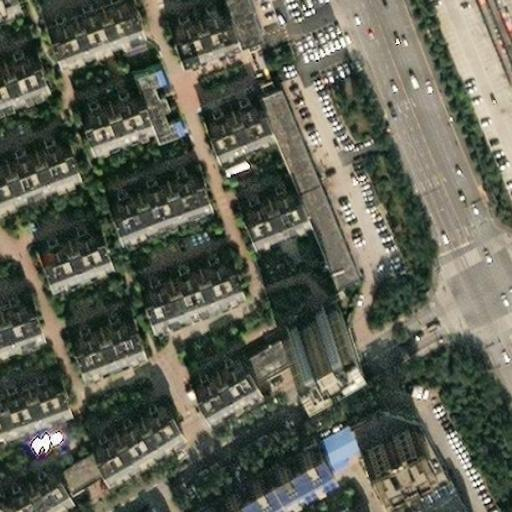building: (184, 434, 325, 512), (241, 75, 308, 180), (280, 168, 347, 272), (382, 433, 468, 512), (68, 403, 165, 473), (308, 397, 404, 462), (125, 240, 225, 299), (102, 165, 192, 219), (261, 286, 333, 343), (118, 53, 171, 130), (174, 354, 244, 412), (262, 467, 347, 512), (66, 86, 138, 139), (19, 223, 91, 275), (353, 408, 419, 463), (52, 312, 121, 360), (33, 0, 123, 35), (219, 173, 282, 221), (163, 2, 223, 47), (196, 96, 255, 141), (42, 449, 81, 488), (0, 35, 30, 71)
